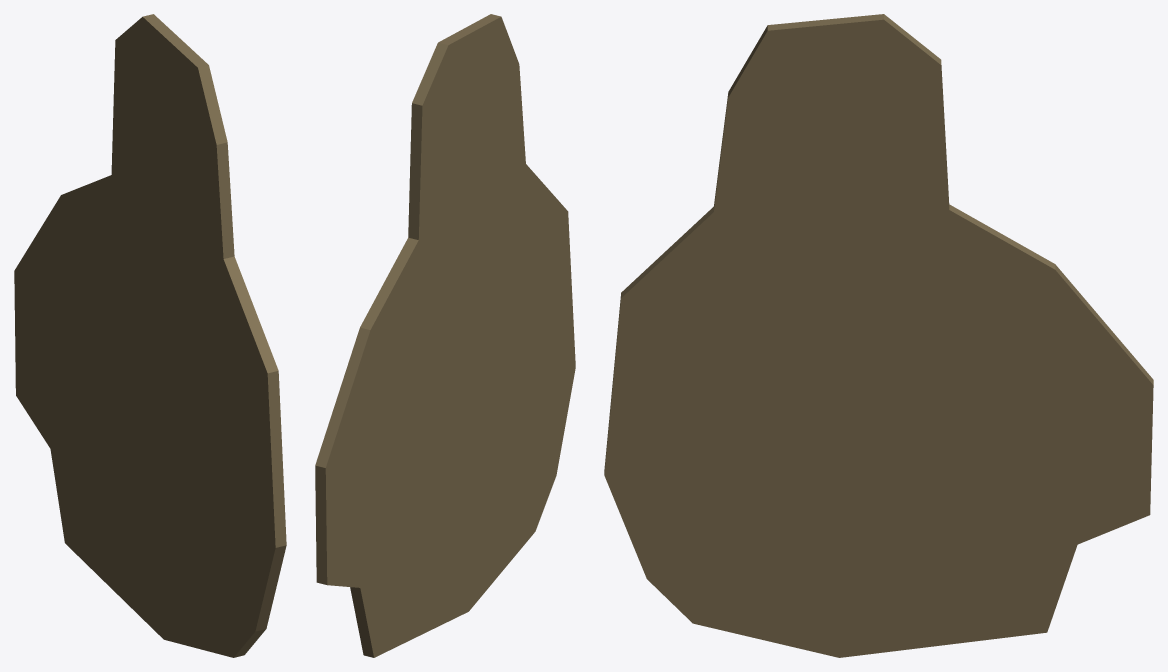
File: RICKROLL.fbx
3 renders of one model, left to right at view 1: azimuth 30°, elevation 25°; view 2: azimuth 150°, elevation 25°; view 3: azimuth 270°, elevation 25°, orthographic. The views are drawn at different scales.
Visible parts, largest first — view 1: Plane; view 2: Plane; view 3: Plane.
Boxes of the visible parts, left/top/right/bottom form: Plane: left=14, top=14, right=286, bottom=657; Plane: left=315, top=14, right=575, bottom=657; Plane: left=604, top=14, right=1153, bottom=657.
Bounding box in the file's own units: 2.07 × 109 × 84.86.
